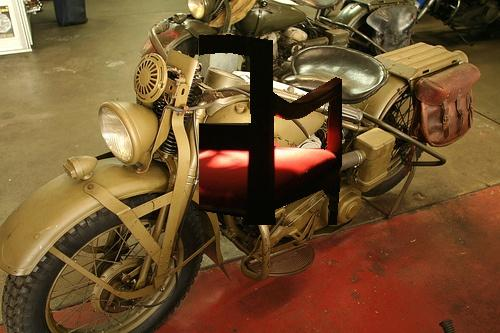tampered: (200, 35, 342, 225)
